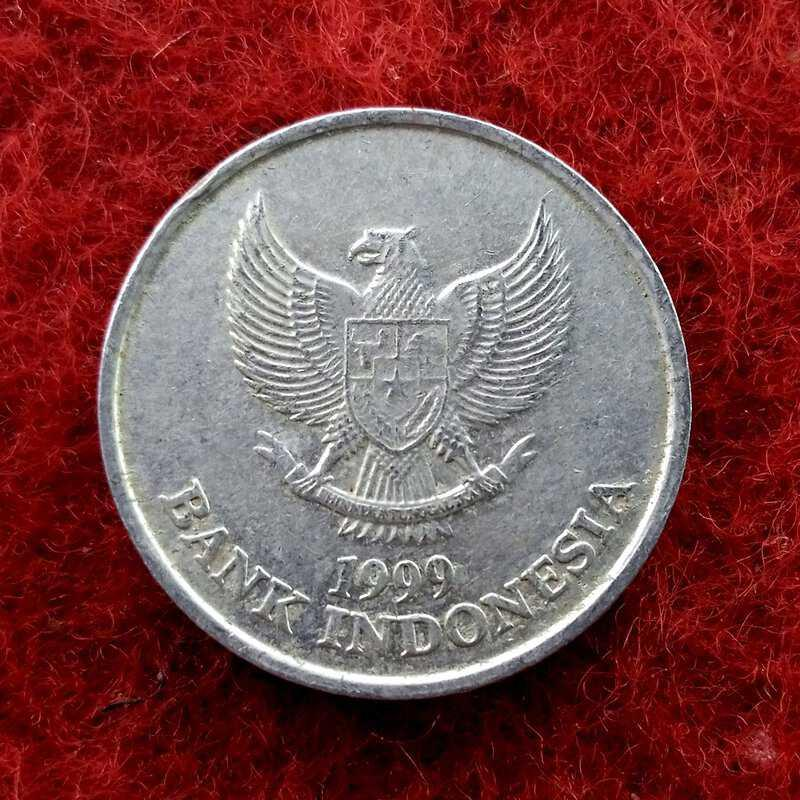coin_100_e1999: (74, 93, 713, 722)
